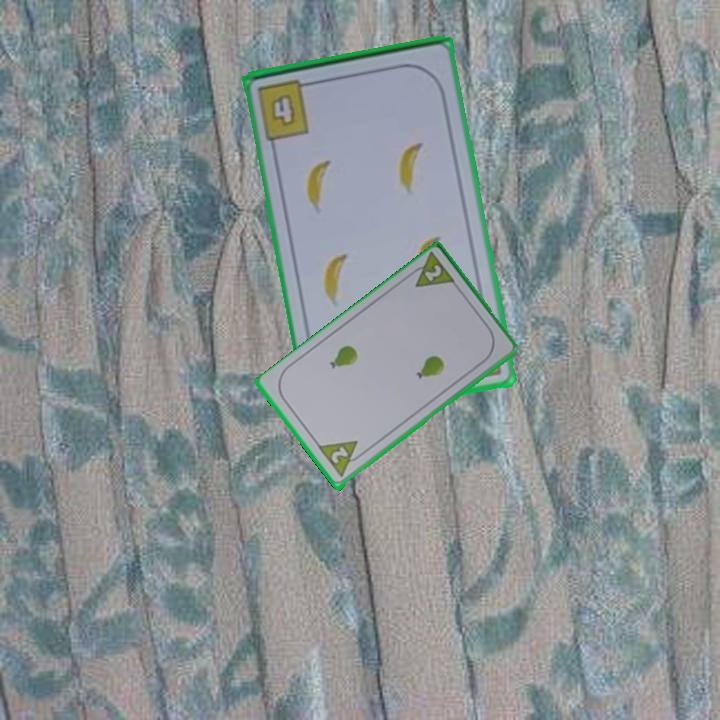2p: (315, 437, 368, 481), (404, 250, 459, 291)
4b: (254, 75, 318, 143)
